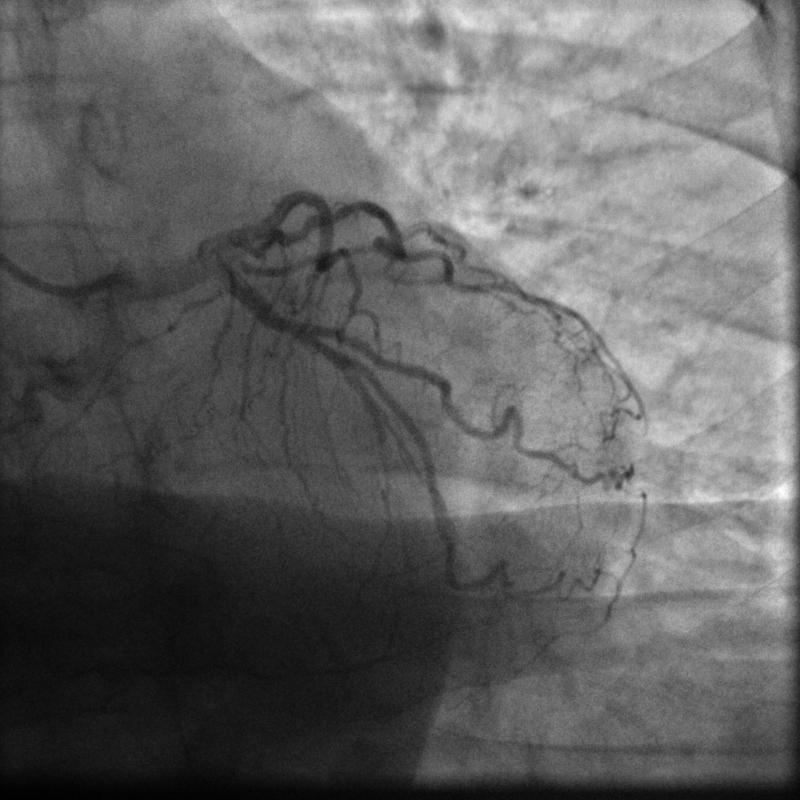Stenosis: (276, 299, 303, 346)
